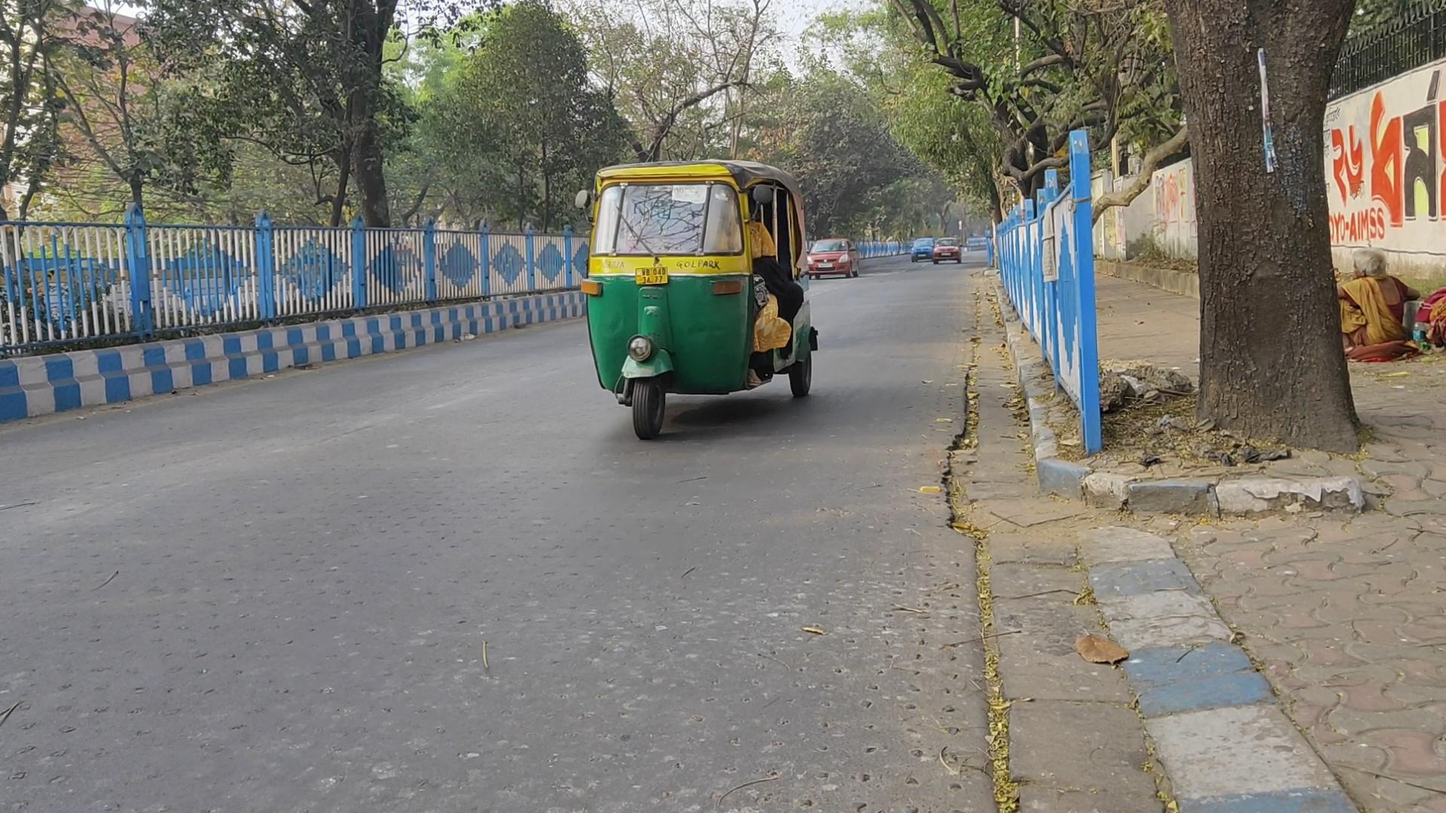Auto: (575, 160, 818, 441)
car: (806, 238, 860, 280), (933, 236, 963, 265), (910, 235, 935, 263)
